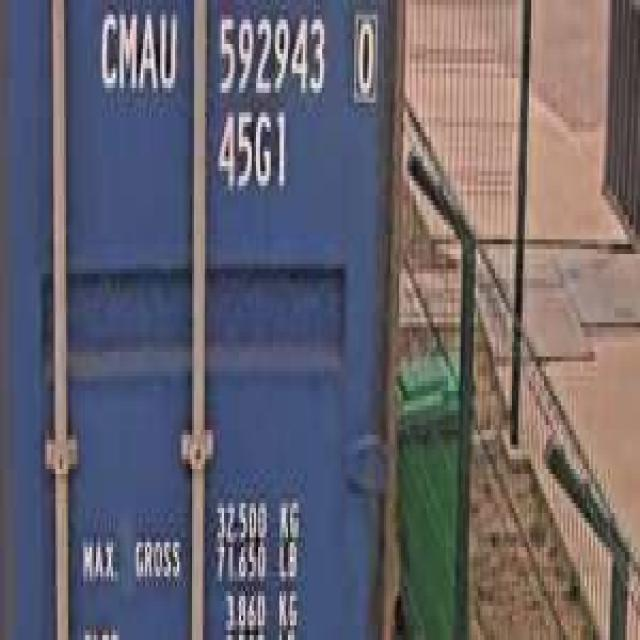dv: (347, 0, 377, 107)
owner: (93, 0, 179, 107)
serial: (213, 5, 331, 102)
size: (213, 102, 290, 196)
